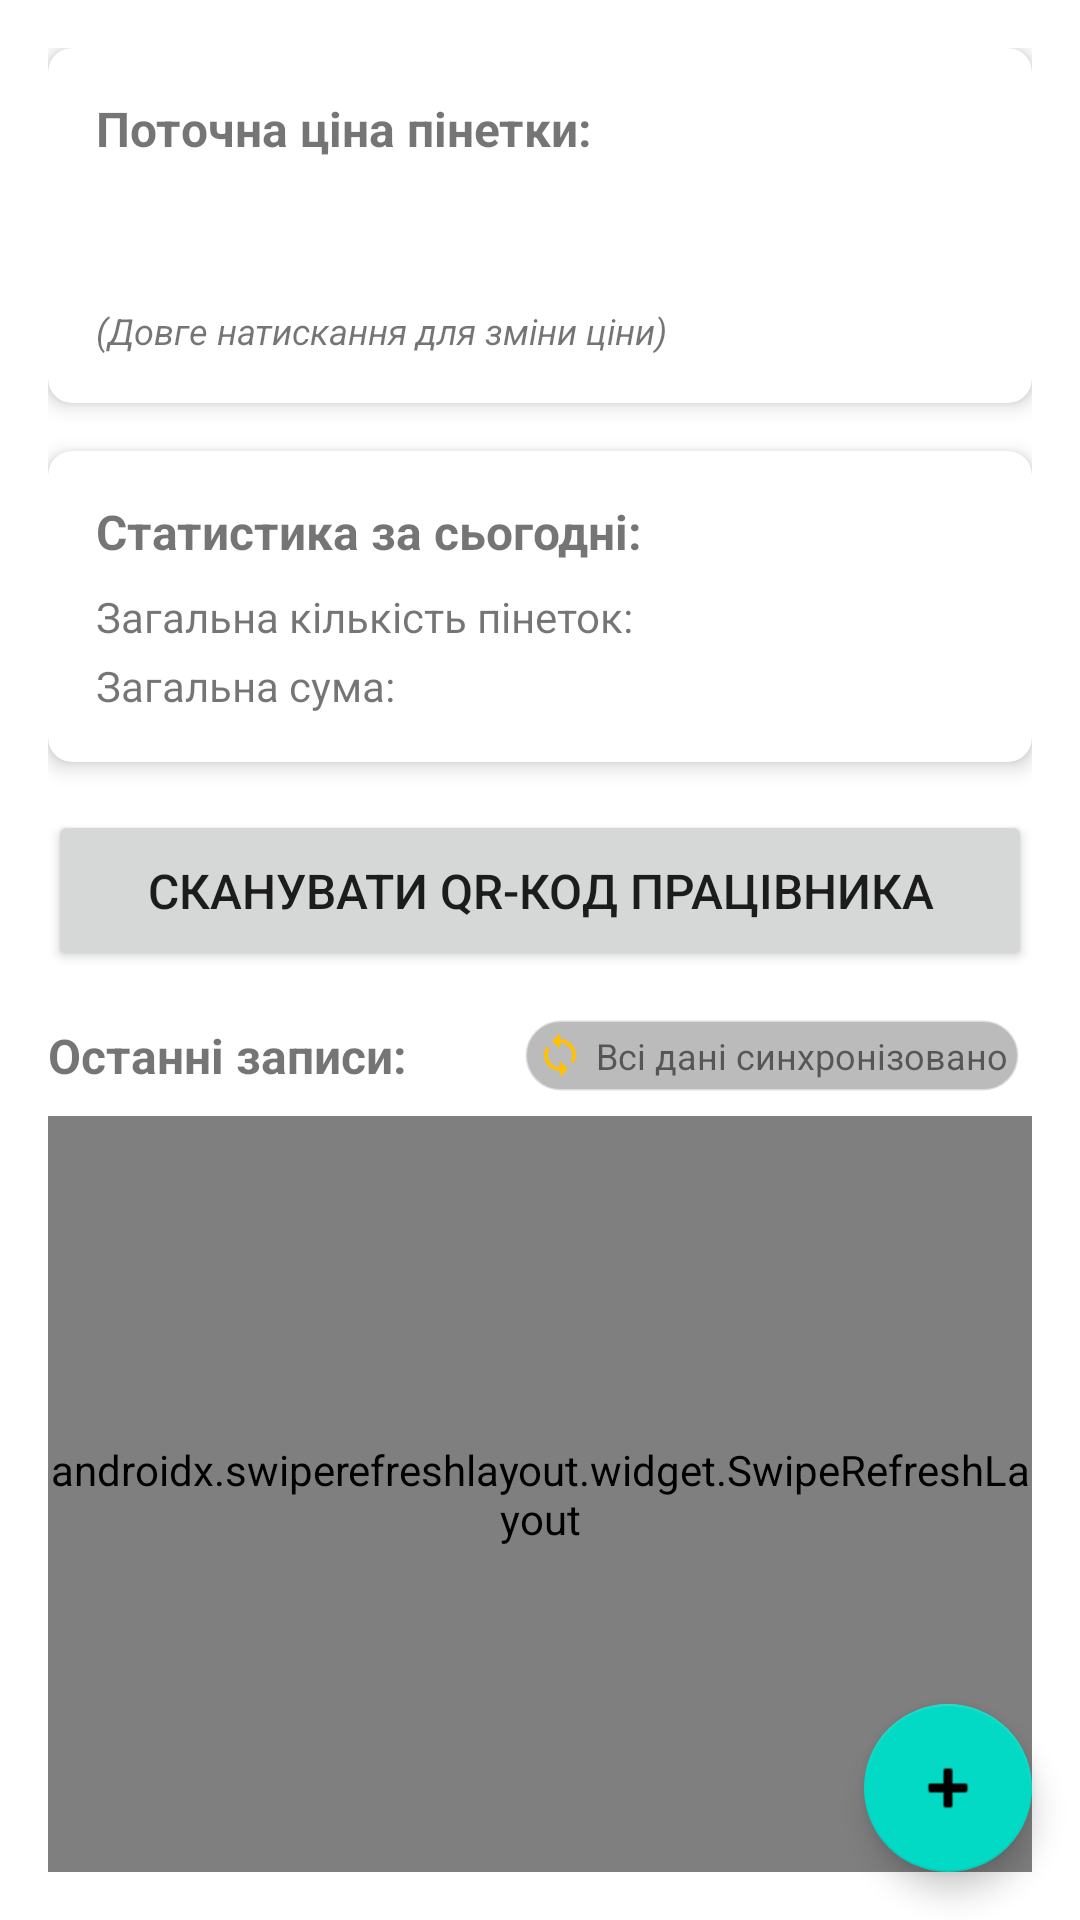

Screen size 1080w x 1920h. Icon name, then its center in pixels as (x,y):
Додати запис вручну: (948,1788)
